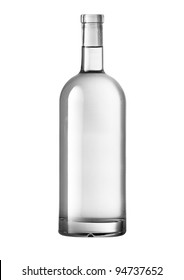glass_bottle: (56, 11, 131, 242)
